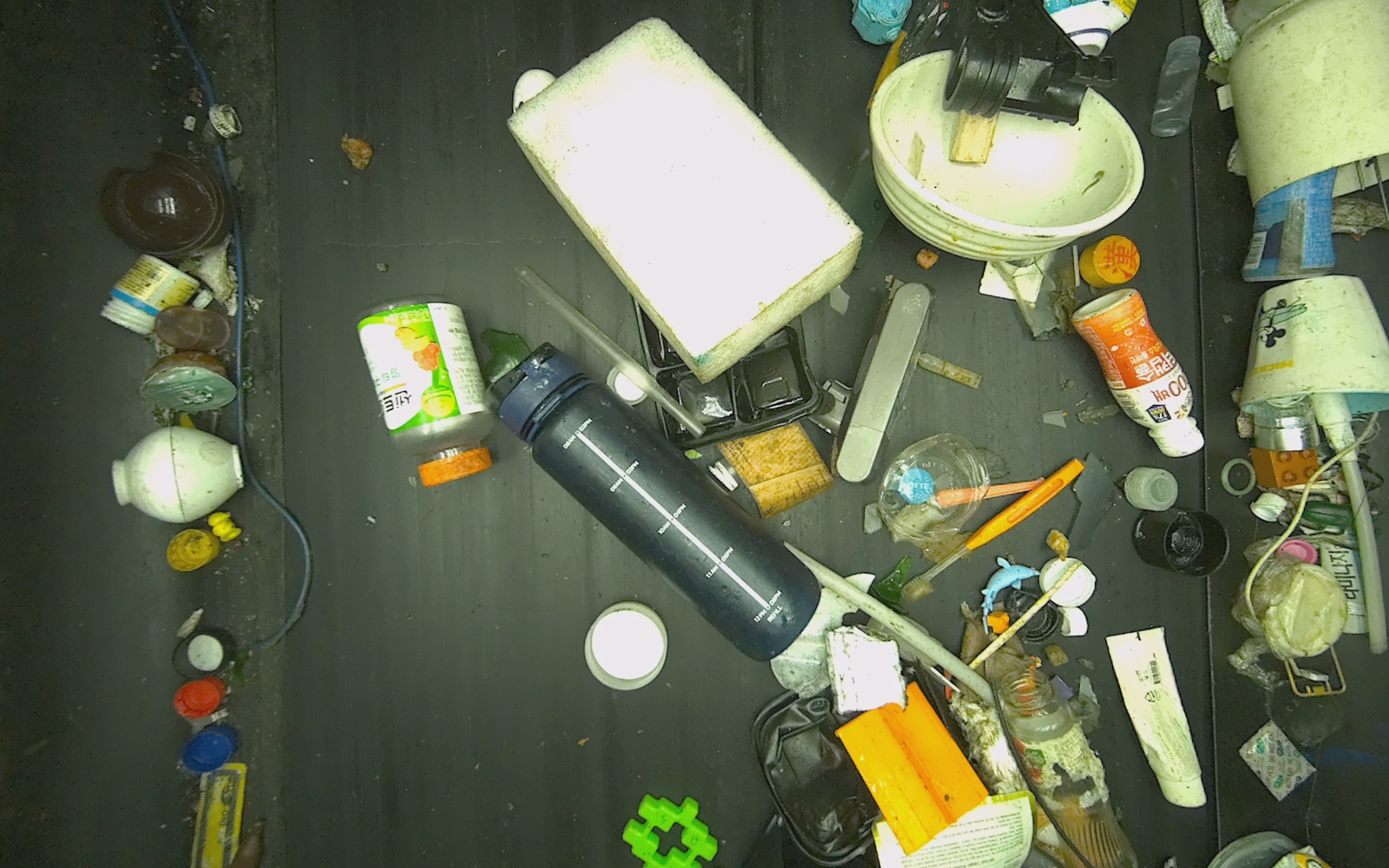PET-C: (357, 294, 493, 487), (879, 433, 990, 542)
PS-W: (1071, 288, 1204, 457)
